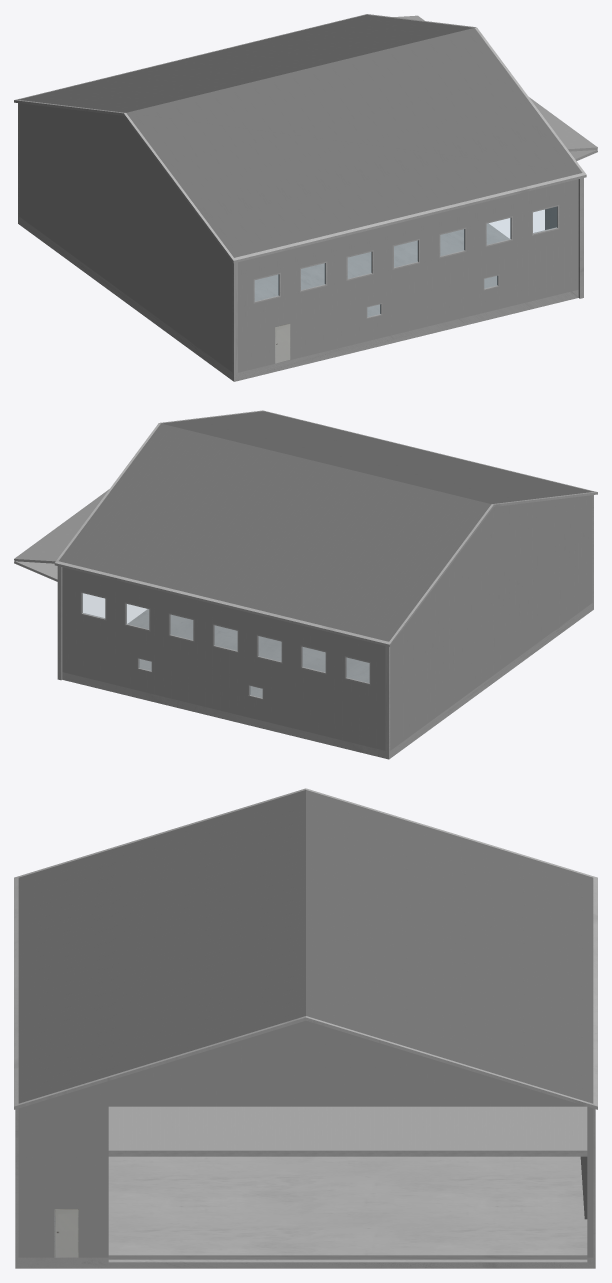
File: gen_open_hangar05-24x22x7-cbj_LOD03.gltf
The picture shows the model from 3 angles, top to bottom: view 1: azimuth 30°, elevation 25°; view 2: azimuth 150°, elevation 25°; view 3: azimuth 270°, elevation 25°; orthographic projection. The views are drawn at different scales.
Parts seen in each view (by area): view 1: Cylinder.007; view 2: Cylinder.007; view 3: Cylinder.007.
Part boxes in pixels (bbox=[...]): Cylinder.007: bbox=[14, 14, 597, 381]; Cylinder.007: bbox=[14, 410, 597, 759]; Cylinder.007: bbox=[14, 788, 597, 1268].
Size of the model in its own units: 25.65 by 11.65 by 24.4.
